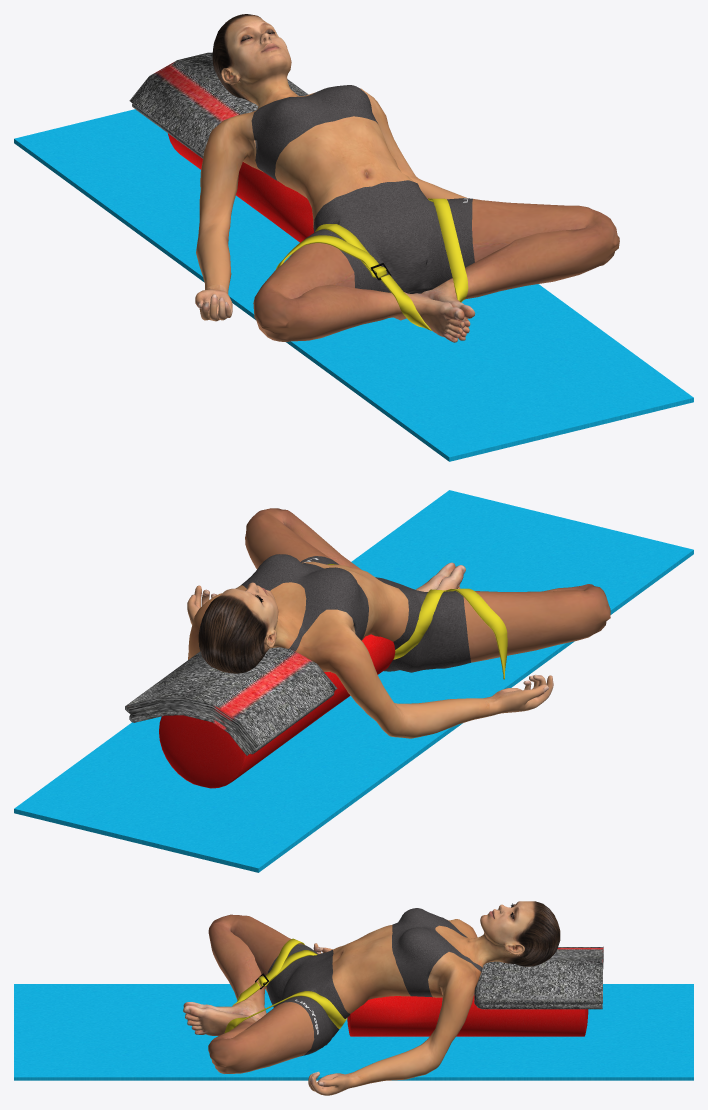
The model's file is supta_baddha_konasana.glb.
3 renders of one model, top to bottom at view 1: azimuth 30°, elevation 25°; view 2: azimuth 150°, elevation 25°; view 3: azimuth 270°, elevation 25°, orthographic. The views are drawn at different scales.
Parts seen in each view (by area): view 1: FemaleSkin-material, mat_001-material, Blanket_001-material, belt_005-material, bolster_001-material; view 2: mat_001-material, FemaleSkin-material, Blanket_001-material, bolster_001-material, belt_005-material; view 3: mat_001-material, FemaleSkin-material, bolster_001-material, Blanket_001-material, belt_005-material.
Boxes of the visible parts, x1,y1,x2,y2 form: FemaleSkin-material: (195,14,619,342); mat_001-material: (14,109,693,461); Blanket_001-material: (129,52,308,158); belt_005-material: (276,198,468,330); bolster_001-material: (168,133,314,242); mat_001-material: (14,490,693,872); FemaleSkin-material: (187,508,610,738); Blanket_001-material: (125,647,337,755); bolster_001-material: (159,634,395,788); belt_005-material: (327,564,507,679); mat_001-material: (14,984,693,1080); FemaleSkin-material: (183,901,560,1095); bolster_001-material: (347,995,588,1036); Blanket_001-material: (474,946,603,1009); belt_005-material: (224,938,346,1032).
Size of the model in its own units: 2.95 by 1.34 by 6.17.
Materials: 6 (4 with a texture image).
